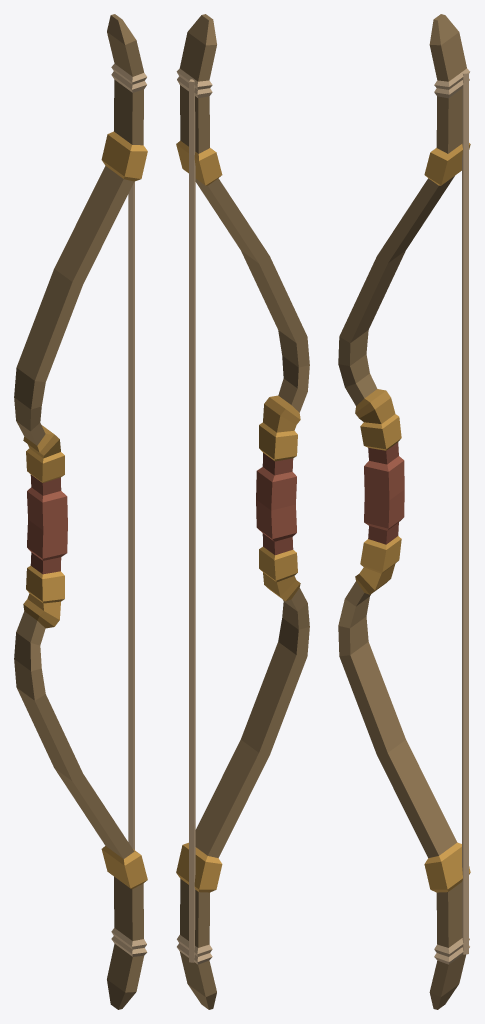
The model's file is SM_pwe_egypt_bow_01.fbx.
3 views of the same model, side by side, from view 1: azimuth 30°, elevation 25°; view 2: azimuth 210°, elevation 25°; view 3: azimuth 330°, elevation 25° (orthographic).
Parts seen in each view (by area): view 1: SM_pwe_egypt_bow_01; view 2: SM_pwe_egypt_bow_01; view 3: SM_pwe_egypt_bow_01.
Boxes of the visible parts, x1=… form: SM_pwe_egypt_bow_01: x1=14, y1=14, x2=147, y2=1009; SM_pwe_egypt_bow_01: x1=176, y1=14, x2=309, y2=1009; SM_pwe_egypt_bow_01: x1=338, y1=14, x2=470, y2=1009.
Bounding box in the file's own units: 11.07 × 89.32 × 4.34.
